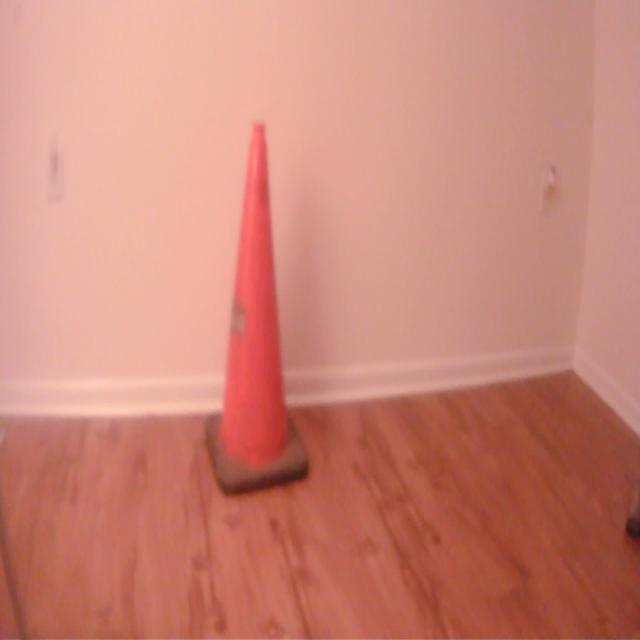traffic cone: (202, 116, 317, 504)
